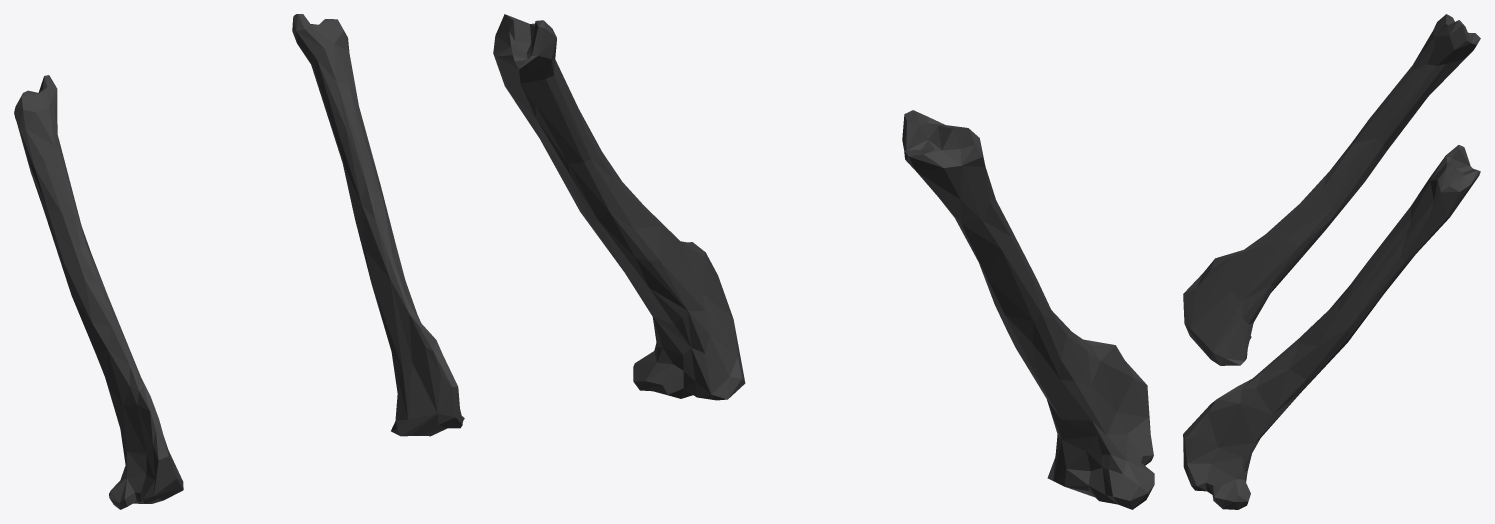
File: Tibia.glb
The picture shows the model from 3 angles, left to right: view 1: azimuth 30°, elevation 25°; view 2: azimuth 150°, elevation 25°; view 3: azimuth 270°, elevation 25°; orthographic projection. The views are drawn at different scales.
Parts seen in each view (by area): view 1: Tibia; view 2: Tibia; view 3: Tibia.
Part boxes in pixels (box(x1,y1,x2,y2)): Tibia: box(14, 14, 464, 509); Tibia: box(493, 14, 1154, 509); Tibia: box(1183, 14, 1480, 509).
Bounding box in the file's own units: 0.00539 × 0.00504 × 0.00393.
Materials: 1 (1 with a texture image).
